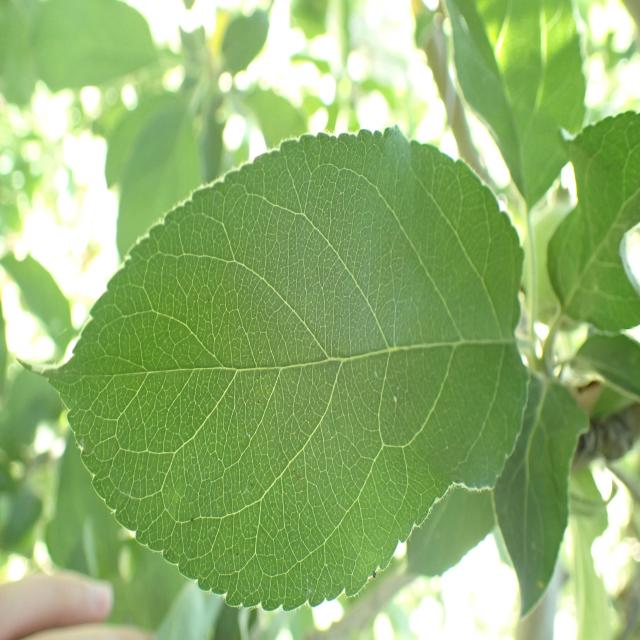healthy: (20, 123, 531, 612), (492, 368, 590, 620), (546, 109, 640, 334)
